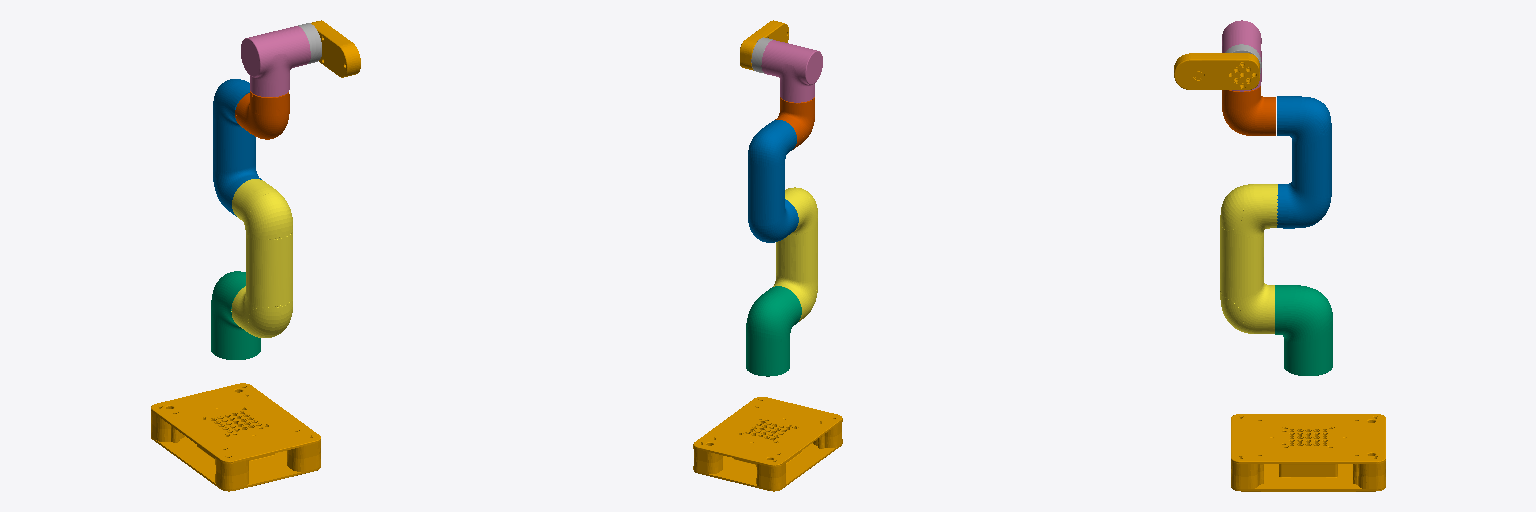
The robot description file, URDF, robot "firefighter":
<?xml version='1.0' encoding='utf-8'?>
<robot name="firefighter">
  <link name="g_base">
    <!-- placeholder inertial added by normalize_urdf.py - replace with CAD values -->
    <inertial>
      <origin xyz="0 0 0" rpy="0 0 0" />
      <mass value="0.1" />
      <inertia ixx="3.600e-05" ixy="0" ixz="0" iyy="3.600e-05" iyz="0" izz="3.600e-05" />
    </inertial>
    <visual>
      <geometry>
        <mesh filename="../../meshes/flat/G_base.stl" />
      </geometry>
      <origin xyz="0.0 0 -0.03" rpy="0 0 1.5708" />
    </visual>
    <collision>
      <geometry>
        <mesh filename="../../meshes/flat/G_base.stl" />
      </geometry>
      <origin xyz="0.0 0 -0.03" rpy="0 0 1.5708" />
    </collision>
  </link>
  <link name="joint1">
    <!-- placeholder inertial added by normalize_urdf.py - replace with CAD values -->
    <inertial>
      <origin xyz="0 0 0" rpy="0 0 0" />
      <mass value="0.1" />
      <inertia ixx="3.600e-05" ixy="0" ixz="0" iyy="3.600e-05" iyz="0" izz="3.600e-05" />
    </inertial>
    <visual>
      <geometry>
        <!--- 0.0 0 -0.04  1.5708 3.14159-->
        <mesh filename="../../meshes/flat/joint1_pi.stl" />
      </geometry>
      <origin xyz="0.0 0 0 " rpy=" 0 0 0" />
    </visual>
    <collision>
      <geometry>
        <!--- 0.0 0 -0.04  1.5708 3.14159-->
        <mesh filename="../../meshes/flat/joint1_pi.stl" />
      </geometry>
      <origin xyz="0.0 0 0 " rpy=" 0 0 0" />
    </collision>
  </link>
  <link name="joint2">
    <!-- placeholder inertial added by normalize_urdf.py - replace with CAD values -->
    <inertial>
      <origin xyz="0 0 0" rpy="0 0 0" />
      <mass value="0.1" />
      <inertia ixx="3.600e-05" ixy="0" ixz="0" iyy="3.600e-05" iyz="0" izz="3.600e-05" />
    </inertial>
    <visual>
      <geometry>
        <mesh filename="../../meshes/joint2.dae" />
      </geometry>
      <origin xyz="0.0 0 -0.06096 " rpy=" 0 0 -1.5708" />
    </visual>
    <collision>
      <geometry>
        <mesh filename="../../meshes/joint2.dae" />
      </geometry>
      <origin xyz="0.0 0 -0.06096 " rpy=" 0 0 -1.5708" />
    </collision>
  </link>
  <link name="joint3">
    <!-- placeholder inertial added by normalize_urdf.py - replace with CAD values -->
    <inertial>
      <origin xyz="0 0 0" rpy="0 0 0" />
      <mass value="0.1" />
      <inertia ixx="3.600e-05" ixy="0" ixz="0" iyy="3.600e-05" iyz="0" izz="3.600e-05" />
    </inertial>
    <visual>
      <geometry>
        <mesh filename="../../meshes/joint3.dae" />
      </geometry>
      <origin xyz="0.0 0 0.03256 " rpy=" 0 -1.5708 0" />
    </visual>
    <collision>
      <geometry>
        <mesh filename="../../meshes/joint3.dae" />
      </geometry>
      <origin xyz="0.0 0 0.03256 " rpy=" 0 -1.5708 0" />
    </collision>
  </link>
  <link name="joint4">
    <!-- placeholder inertial added by normalize_urdf.py - replace with CAD values -->
    <inertial>
      <origin xyz="0 0 0" rpy="0 0 0" />
      <mass value="0.1" />
      <inertia ixx="3.600e-05" ixy="0" ixz="0" iyy="3.600e-05" iyz="0" izz="3.600e-05" />
    </inertial>
    <visual>
      <geometry>
        <!--- 0.0 0 -0.04 -->
        <mesh filename="../../meshes/joint4.dae" />
      </geometry>
      <origin xyz="0.0 0 0.03056 " rpy=" 0 -1.5708 0" />
    </visual>
    <collision>
      <geometry>
        <!--- 0.0 0 -0.04 -->
        <mesh filename="../../meshes/joint4.dae" />
      </geometry>
      <origin xyz="0.0 0 0.03056 " rpy=" 0 -1.5708 0" />
    </collision>
  </link>
  <link name="joint5">
    <!-- placeholder inertial added by normalize_urdf.py - replace with CAD values -->
    <inertial>
      <origin xyz="0 0 0" rpy="0 0 0" />
      <mass value="0.1" />
      <inertia ixx="3.600e-05" ixy="0" ixz="0" iyy="3.600e-05" iyz="0" izz="3.600e-05" />
    </inertial>
    <visual>
      <geometry>
        <!--- 0.0 0 -0.04 -->
        <mesh filename="../../meshes/flat/joint5.stl" />
      </geometry>
      <origin xyz="0.0 0 -0.03356 " rpy=" 0 -1.5708 1.5708" />
    </visual>
    <collision>
      <geometry>
        <!--- 0.0 0 -0.04 -->
        <mesh filename="../../meshes/flat/joint5.stl" />
      </geometry>
      <origin xyz="0.0 0 -0.03356 " rpy=" 0 -1.5708 1.5708" />
    </collision>
  </link>
  <link name="joint6">
    <!-- placeholder inertial added by normalize_urdf.py - replace with CAD values -->
    <inertial>
      <origin xyz="0 0 0" rpy="0 0 0" />
      <mass value="0.1" />
      <inertia ixx="3.600e-05" ixy="0" ixz="0" iyy="3.600e-05" iyz="0" izz="3.600e-05" />
    </inertial>
    <visual>
      <geometry>
        <!--- 0.0 0 -0.04 -->
        <mesh filename="../../meshes/joint6.dae" />
      </geometry>
      <origin xyz="0 0.00 -0.038 " rpy=" 0 0 0" />
    </visual>
    <collision>
      <geometry>
        <!--- 0.0 0 -0.04 -->
        <mesh filename="../../meshes/joint6.dae" />
      </geometry>
      <origin xyz="0 0.00 -0.038 " rpy=" 0 0 0" />
    </collision>
  </link>
  <link name="joint6_flange">
    <!-- placeholder inertial added by normalize_urdf.py - replace with CAD values -->
    <inertial>
      <origin xyz="0 0 0" rpy="0 0 0" />
      <mass value="0.1" />
      <inertia ixx="3.600e-05" ixy="0" ixz="0" iyy="3.600e-05" iyz="0" izz="3.600e-05" />
    </inertial>
    <visual>
      <geometry>
        <!--- 0.0 0 -0.04 -->
        <mesh filename="../../meshes/joint7.dae" />
      </geometry>
      <origin xyz="0.0 0 -0.012 " rpy=" 0 0 0" />
    </visual>
    <collision>
      <geometry>
        <!--- 0.0 0 -0.04 -->
        <mesh filename="../../meshes/joint7.dae" />
      </geometry>
      <origin xyz="0.0 0 -0.012 " rpy=" 0 0 0" />
    </collision>
  </link>
  <link name="camera_flange">
    <!-- placeholder inertial added by normalize_urdf.py - replace with CAD values -->
    <inertial>
      <origin xyz="0 0 0" rpy="0 0 0" />
      <mass value="0.1" />
      <inertia ixx="3.600e-05" ixy="0" ixz="0" iyy="3.600e-05" iyz="0" izz="3.600e-05" />
    </inertial>
    <visual>
      <geometry>
        <mesh filename="../../meshes/flat/camera_flange.stl" />
      </geometry>
      <origin xyz="0.024 -0.008 0.0 " rpy=" 0 3.14159 0" />
    </visual>
    <collision>
      <geometry>
        <mesh filename="../../meshes/flat/camera_flange.stl" />
      </geometry>
      <origin xyz="0.024 -0.008 0.0 " rpy=" 0 3.14159 0" />
    </collision>
  </link>
  <joint name="g_base_to_joint1" type="fixed">
    <axis xyz="0 0 0" />
    <limit effort="1000.0" lower="-3.14" upper="3.14159" velocity="0" />
    <parent link="g_base" />
    <child link="joint1" />
    <origin xyz="0 0 0" rpy="0 0 0" />
  </joint>
  <joint name="joint2_to_joint1" type="revolute">
    <axis xyz="0 0 1" />
    <limit effort="1000.0" lower="-3.14" upper="3.14159" velocity="2" />
    <parent link="joint1" />
    <child link="joint2" />
    <origin xyz="0 0 0.13956" rpy="0 0 0" />
  </joint>
  <joint name="joint3_to_joint2" type="revolute">
    <axis xyz="0 0 1" />
    <limit effort="1000.0" lower="-3.14" upper="3.14159" velocity="2" />
    <parent link="joint2" />
    <child link="joint3" />
    <origin xyz="0 0 -0.001" rpy="0 1.5708 -1.5708" />
  </joint>
  <joint name="joint4_to_joint3" type="revolute">
    <axis xyz=" 0 0 1" />
    <limit effort="1000.0" lower="-3.14" upper="3.14159" velocity="2" />
    <parent link="joint3" />
    <child link="joint4" />
    <origin xyz="  -0.1104 0 0   " rpy="0 0 0" />
  </joint>
  <joint name="joint5_to_joint4" type="revolute">
    <axis xyz=" 0 0 1" />
    <limit effort="1000.0" lower="-3.14" upper="3.14159" velocity="2" />
    <parent link="joint4" />
    <child link="joint5" />
    <origin xyz="-0.096 0 0.06462" rpy="0 0 -1.5708" />
  </joint>
  <joint name="joint6_to_joint5" type="revolute">
    <axis xyz="0 0 1" />
    <limit effort="1000.0" lower="-3.14" upper="3.14159" velocity="2" />
    <parent link="joint5" />
    <child link="joint6" />
    <origin xyz="0 -0.07318 0" rpy="1.5708 -1.5708 0" />
  </joint>
  <joint name="joint6output_to_joint6" type="revolute">
    <axis xyz="0 0 1" />
    <limit effort="1000.0" lower="-3.14" upper="3.14159" velocity="2" />
    <parent link="joint6" />
    <child link="joint6_flange" />
    <origin xyz="0 0.0456 0" rpy="-1.5708 0 0" />
  </joint>
  <joint name="joint6output_to_camera_flange" type="fixed">
    <!-- <axis xyz="0 0 1"/>
    <limit effort = "1000.0" lower = "-3.14" upper = "3.14159" velocity = "0"/> -->
    <parent link="joint6_flange" />
    <child link="camera_flange" />
    <!-- <origin xyz= "0 0.0 0" rpy = "-1.5708 0 0"/>   -->
    <origin xyz="0 0 0.01" rpy="1.579 0 0" />
  </joint>
</robot>

--- What the picture shows (computed from the rendered views, not written in the file) ---
The picture shows the robot from 3 angles, left to right: view 1: azimuth 30°, elevation 25°; view 2: azimuth 150°, elevation 25°; view 3: azimuth 270°, elevation 25°; orthographic projection.
Model firefighter with 9 links and 8 joints (6 revolute, 2 fixed), rooted at g_base, posed all joints at 0.
Links seen in each view (by area): view 1: g_base, joint3, joint4, joint6, joint2, joint5, camera_flange; view 2: g_base, joint4, joint2, joint3, joint6, joint5, camera_flange; view 3: g_base, joint3, joint4, joint2, camera_flange, joint5, joint6.
Boxes of the visible links, x1=… form: g_base: x1=151, y1=383, x2=320, y2=491; joint3: x1=231, y1=179, x2=292, y2=337; joint4: x1=213, y1=79, x2=261, y2=216; joint6: x1=241, y1=26, x2=310, y2=96; joint2: x1=211, y1=271, x2=260, y2=359; joint5: x1=235, y1=91, x2=289, y2=139; camera_flange: x1=311, y1=20, x2=360, y2=77; g_base: x1=693, y1=397, x2=842, y2=491; joint4: x1=748, y1=120, x2=798, y2=242; joint2: x1=746, y1=286, x2=801, y2=376; joint3: x1=773, y1=187, x2=817, y2=321; joint6: x1=761, y1=40, x2=822, y2=102; joint5: x1=775, y1=97, x2=814, y2=149; camera_flange: x1=740, y1=20, x2=788, y2=70; g_base: x1=1231, y1=414, x2=1385, y2=491; joint3: x1=1220, y1=184, x2=1277, y2=333; joint4: x1=1277, y1=96, x2=1331, y2=228; joint2: x1=1275, y1=285, x2=1332, y2=375; camera_flange: x1=1174, y1=53, x2=1259, y2=89; joint5: x1=1222, y1=86, x2=1275, y2=135; joint6: x1=1222, y1=20, x2=1261, y2=91.
Size in the robot's own frame: 0.1187 by 0.2051 by 0.4673 metres.
8 mesh visuals loaded from 9 distinct referenced files (3 binary STL, 5 Collada DAE); not drawn: 1 (reference not matched to a file when rendering).
